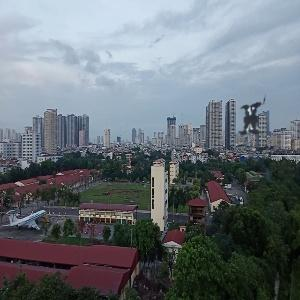drone: (211, 76, 300, 165)
